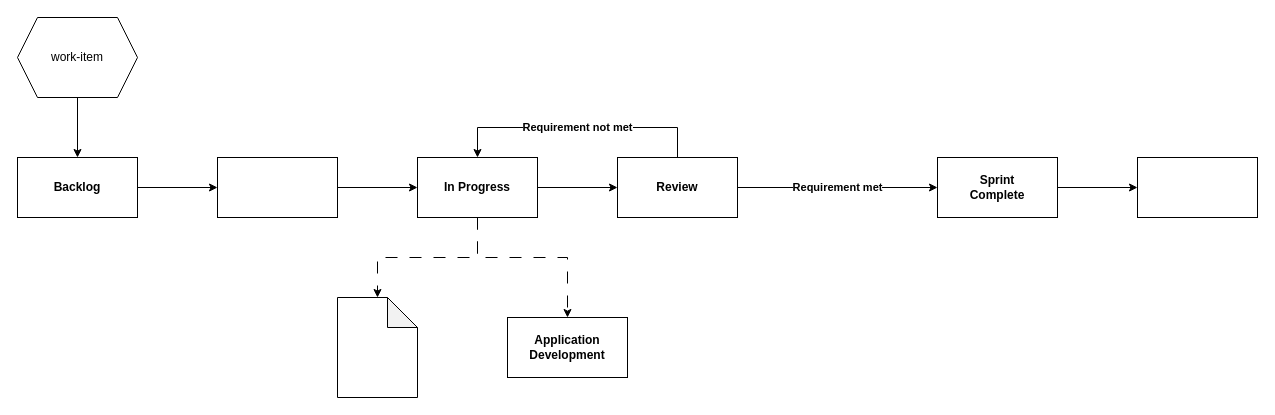
The diagram is 1275 pixels wide and 415 high, and some of its shapes have lost their labels. Here are the shapes that lost their labels. From the top down, the centre of each, then its label:
At (277,187): "Sprint Backlog".
At (1197,187): "Weekly Archive".
At (377,347): "Report".
